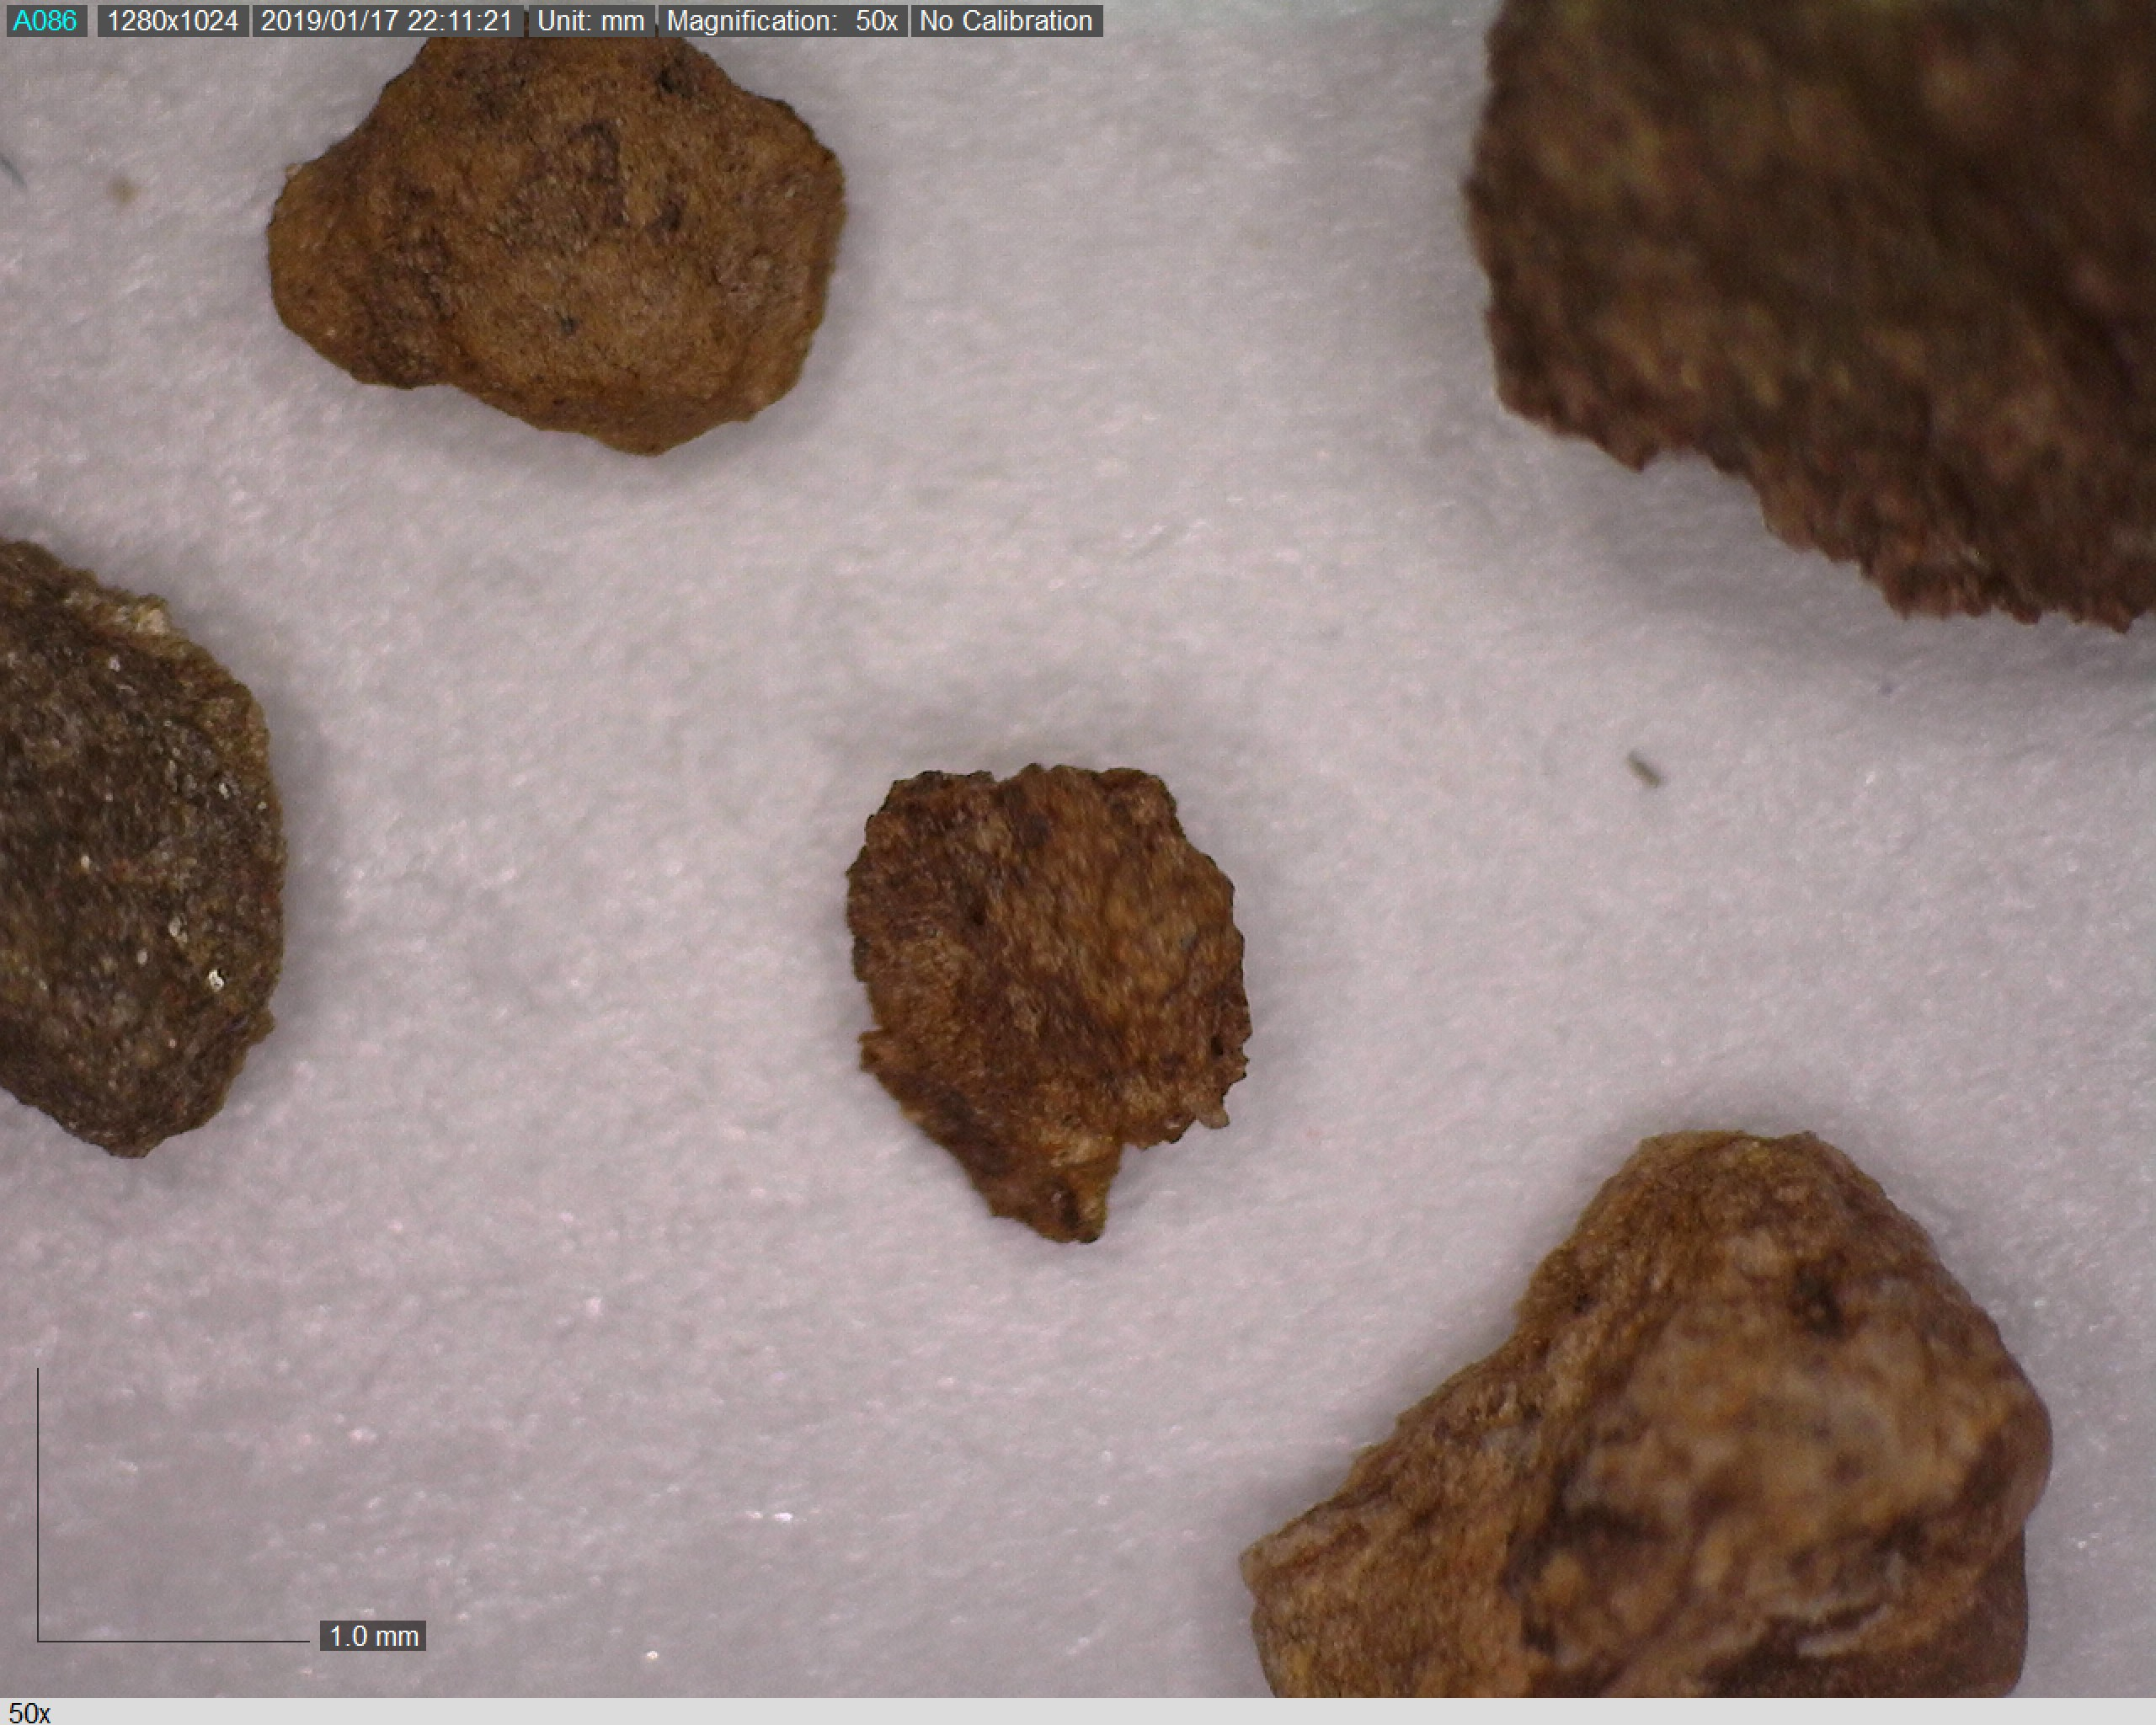Sandstone: (262, 42, 891, 463), (840, 752, 1274, 1287)
